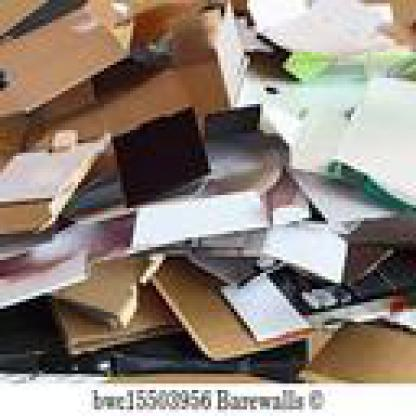CARDBOARD: (0, 0, 413, 377), (0, 123, 306, 299), (231, 42, 413, 208), (150, 244, 413, 358), (72, 100, 286, 218), (30, 0, 240, 117), (20, 49, 228, 146), (0, 0, 131, 111), (192, 221, 412, 286), (244, 0, 412, 75), (0, 127, 111, 235), (48, 270, 176, 351), (110, 325, 302, 377), (283, 169, 413, 241), (0, 296, 111, 378), (110, 104, 204, 198), (48, 247, 162, 322), (292, 312, 413, 377), (130, 0, 244, 49), (263, 178, 312, 218), (0, 110, 23, 152)
